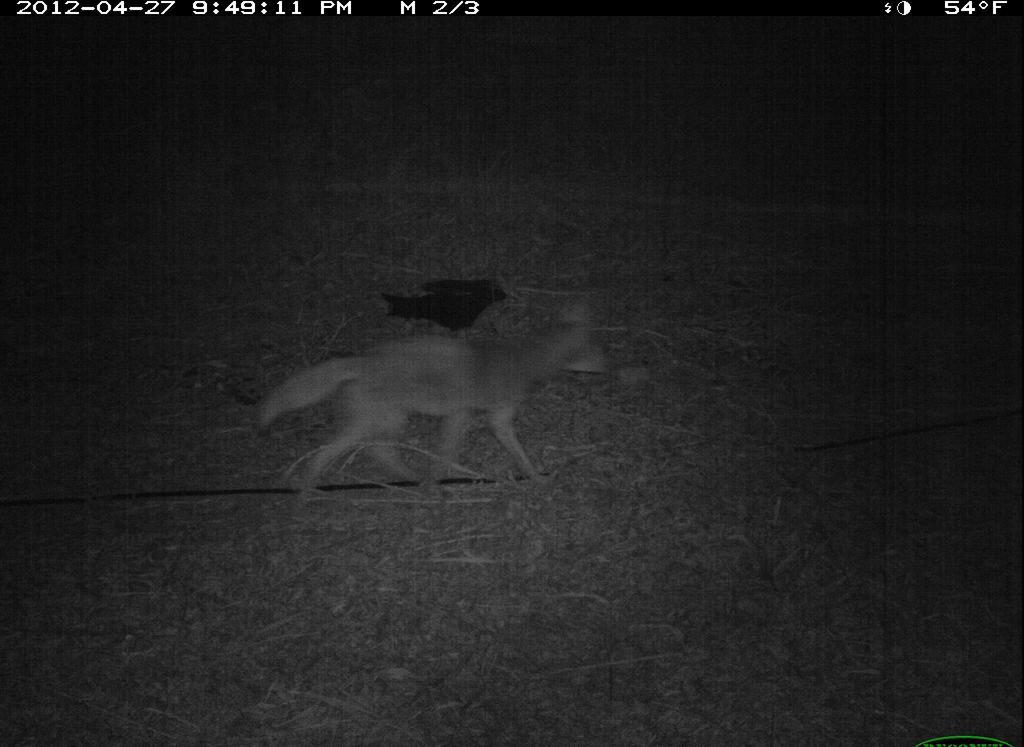coyote: (240, 291, 617, 519)
